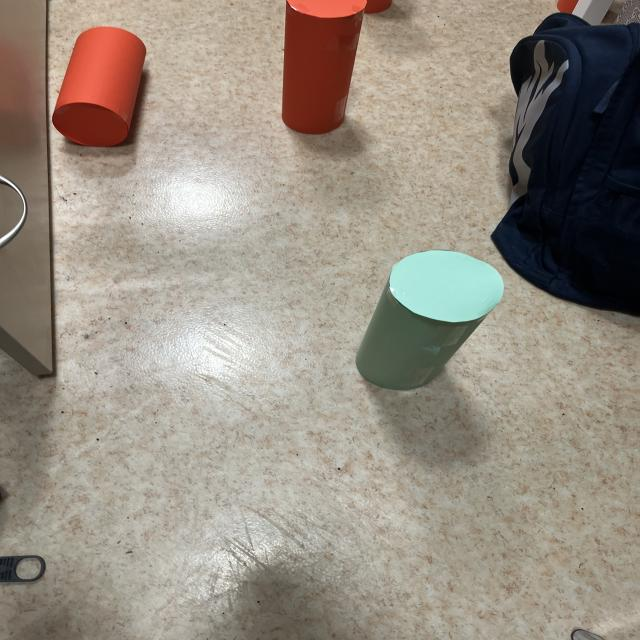meta: (356, 250, 503, 390)
przeszkoda: (52, 27, 146, 146), (282, 0, 365, 134)
